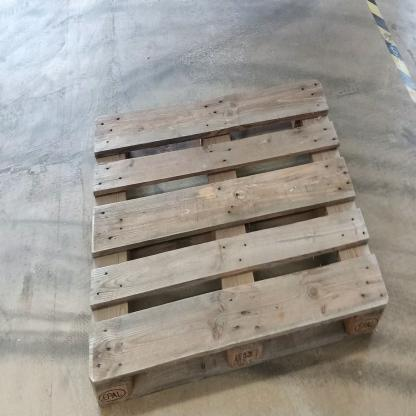BoxFace: (82, 68, 394, 415)
